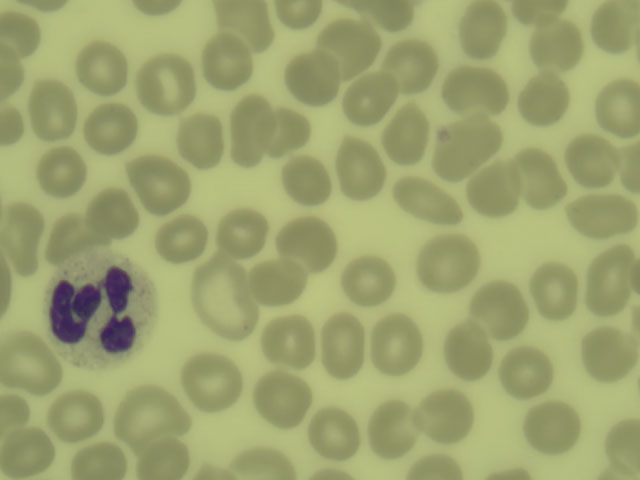RBC: (201, 259, 250, 343), (116, 386, 192, 437), (430, 118, 501, 172), (124, 153, 192, 207), (3, 333, 64, 389), (185, 355, 247, 410), (420, 234, 479, 290), (394, 179, 458, 228), (138, 57, 197, 110), (519, 144, 563, 215), (569, 192, 640, 236), (590, 249, 637, 315), (581, 329, 638, 383), (320, 311, 365, 378), (376, 314, 427, 373), (527, 399, 584, 451), (83, 102, 138, 155), (443, 70, 510, 113), (592, 74, 640, 134), (378, 107, 432, 160), (422, 390, 478, 441), (3, 205, 46, 271), (211, 1, 271, 48), (285, 214, 340, 265), (32, 78, 78, 138), (262, 316, 314, 367), (478, 284, 529, 336), (289, 49, 339, 102), (174, 114, 224, 167), (460, 3, 507, 59), (84, 189, 141, 235), (337, 135, 383, 192), (75, 42, 130, 89), (469, 166, 522, 214), (205, 34, 251, 89), (522, 72, 568, 126), (232, 100, 271, 163), (282, 156, 332, 205), (257, 257, 305, 308), (445, 326, 492, 378), (393, 38, 440, 89), (36, 149, 89, 194), (346, 259, 400, 303), (500, 351, 555, 394), (313, 407, 361, 456), (257, 375, 307, 422), (592, 2, 638, 53), (1, 429, 54, 473), (372, 403, 416, 456), (522, 26, 585, 63), (568, 137, 613, 186), (535, 264, 580, 313), (347, 74, 392, 121), (324, 23, 375, 64), (219, 208, 267, 251), (48, 395, 102, 432), (78, 444, 130, 480), (157, 217, 205, 256), (338, 2, 422, 24), (52, 217, 102, 253), (238, 445, 294, 477), (1, 12, 42, 55), (143, 443, 190, 479), (607, 416, 640, 464), (406, 452, 461, 480), (1, 48, 27, 97), (276, 1, 322, 28), (273, 115, 311, 147), (511, 1, 573, 18), (621, 146, 640, 195), (1, 105, 22, 145), (133, 1, 182, 18), (2, 397, 25, 427), (27, 1, 75, 13)
WBC: (54, 259, 158, 364)
